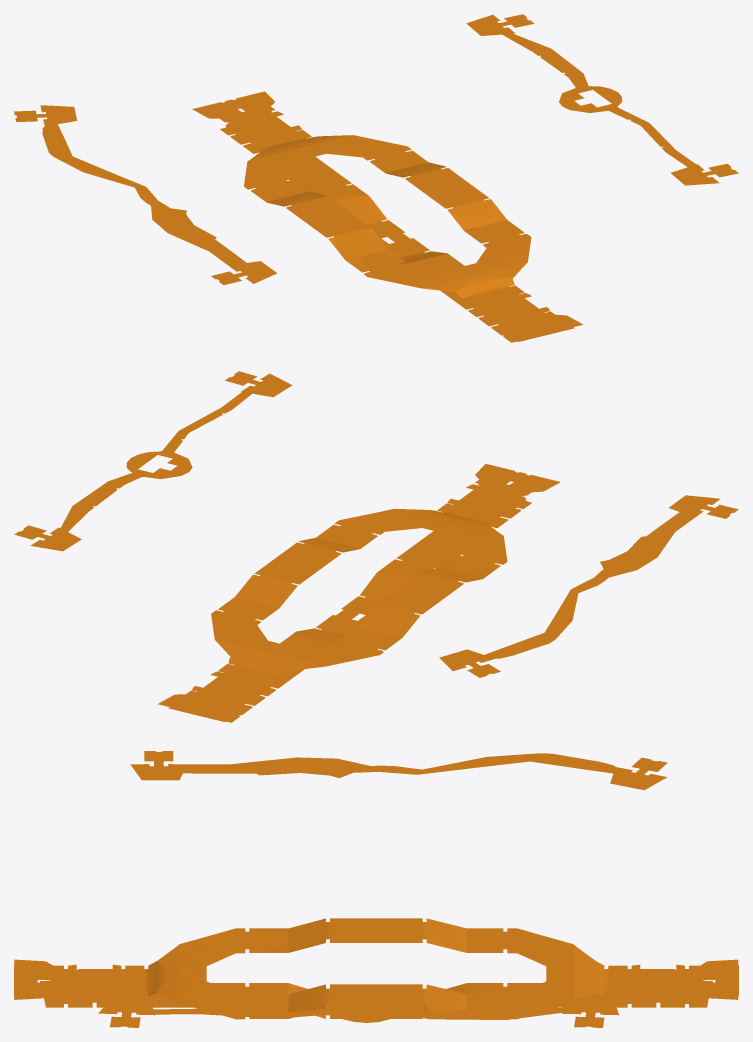
The model's file is cluster_12.fbx.
The picture shows the model from 3 angles, top to bottom: view 1: azimuth 30°, elevation 25°; view 2: azimuth 150°, elevation 25°; view 3: azimuth 270°, elevation 25°; orthographic projection. The views are drawn at different scales.
Visible parts, largest first — view 1: cluster_12; view 2: cluster_12; view 3: cluster_12.
Part boxes in pixels (<box>): cluster_12: <box>14,14,738,342</box>; cluster_12: <box>14,371,738,722</box>; cluster_12: <box>14,751,738,1027</box>.
Bounding box in the file's own units: 1057220 × 193835 × 1165086.
